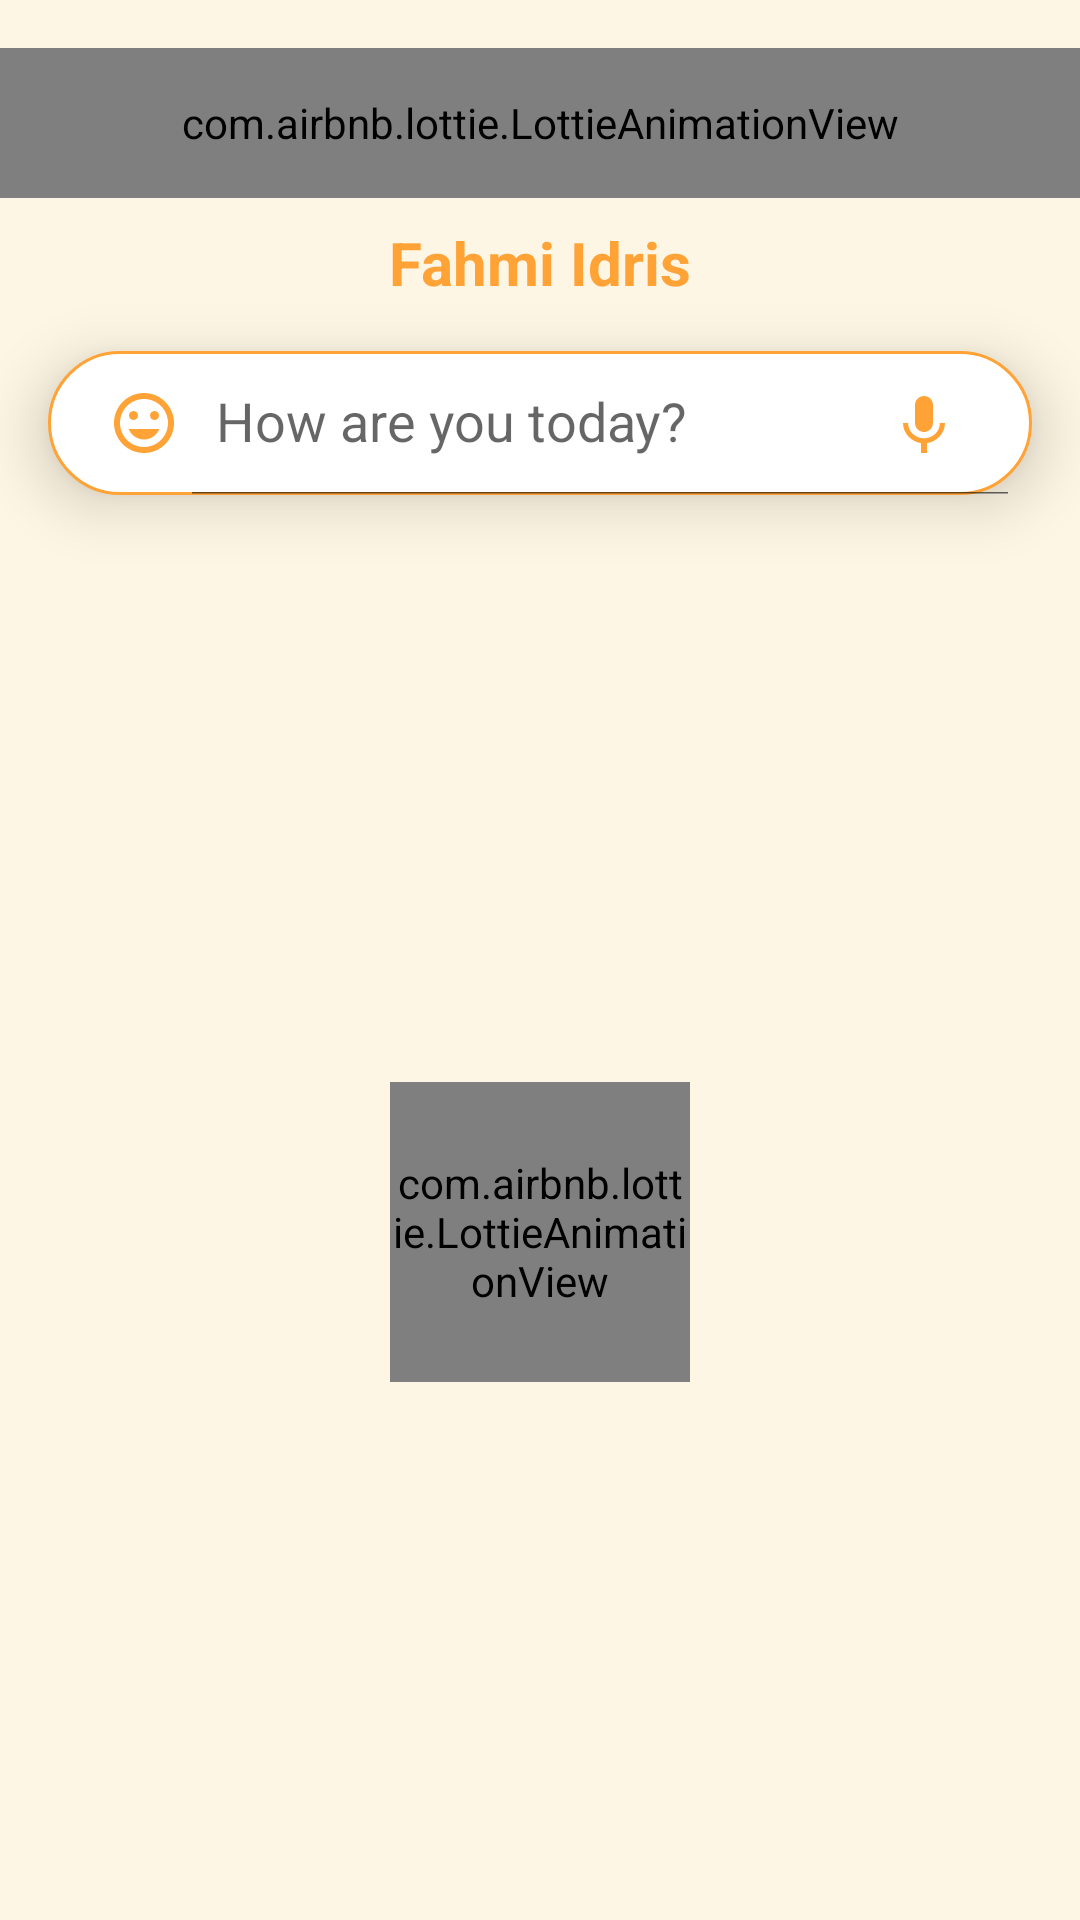

Icons on this 1080px x 1920px Android screen, each with its box as detection(x1, y1, x2, y2):
Voice Button: detection(903, 396, 945, 453)
